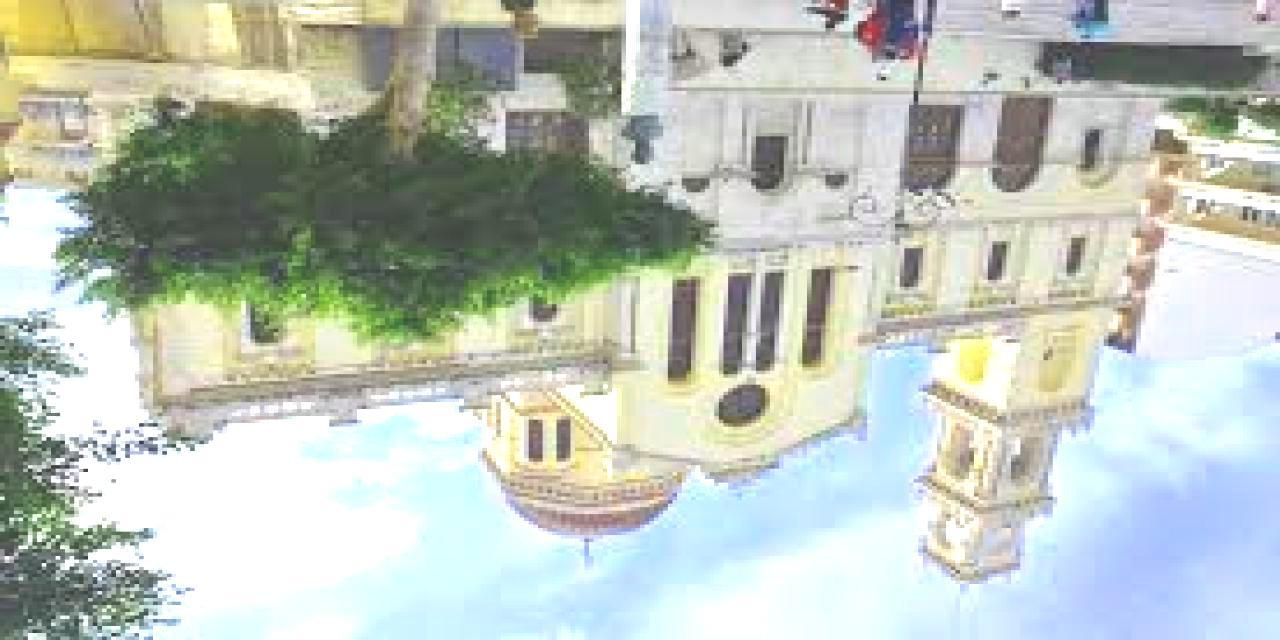Agios Minas: (127, 34, 1174, 621)
